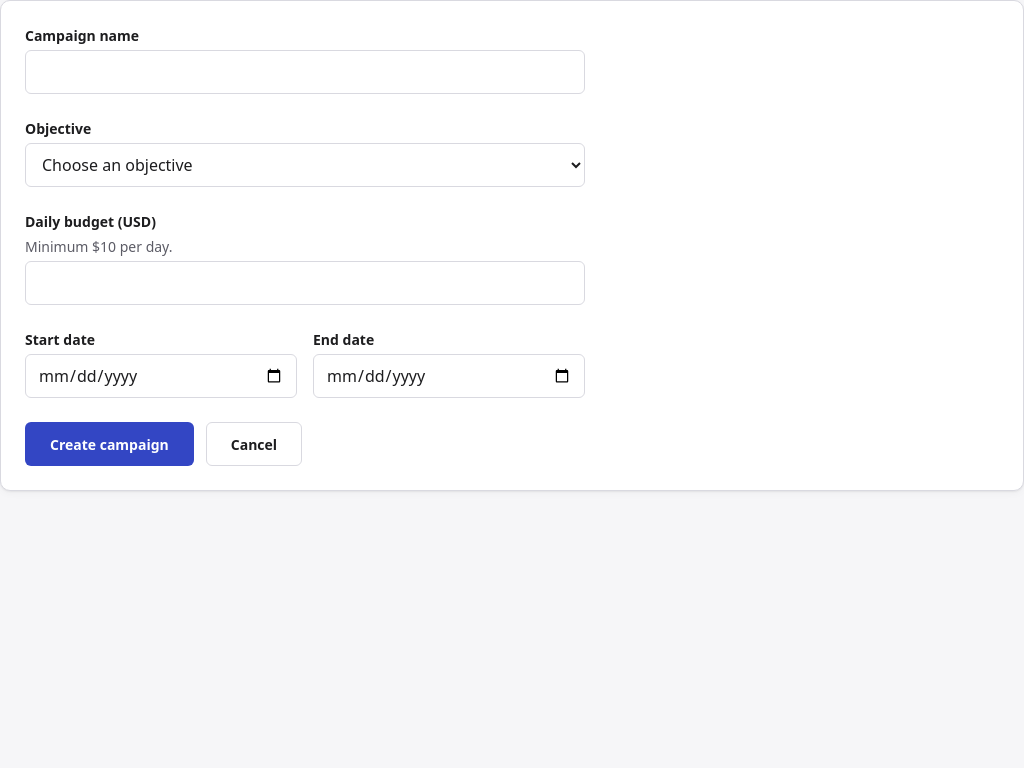
Test: CampaignForm › shows a friendly message when the server fails
Type "X" into the field labelled "Campaign name" at (305, 72), box [25, 50, 585, 94]
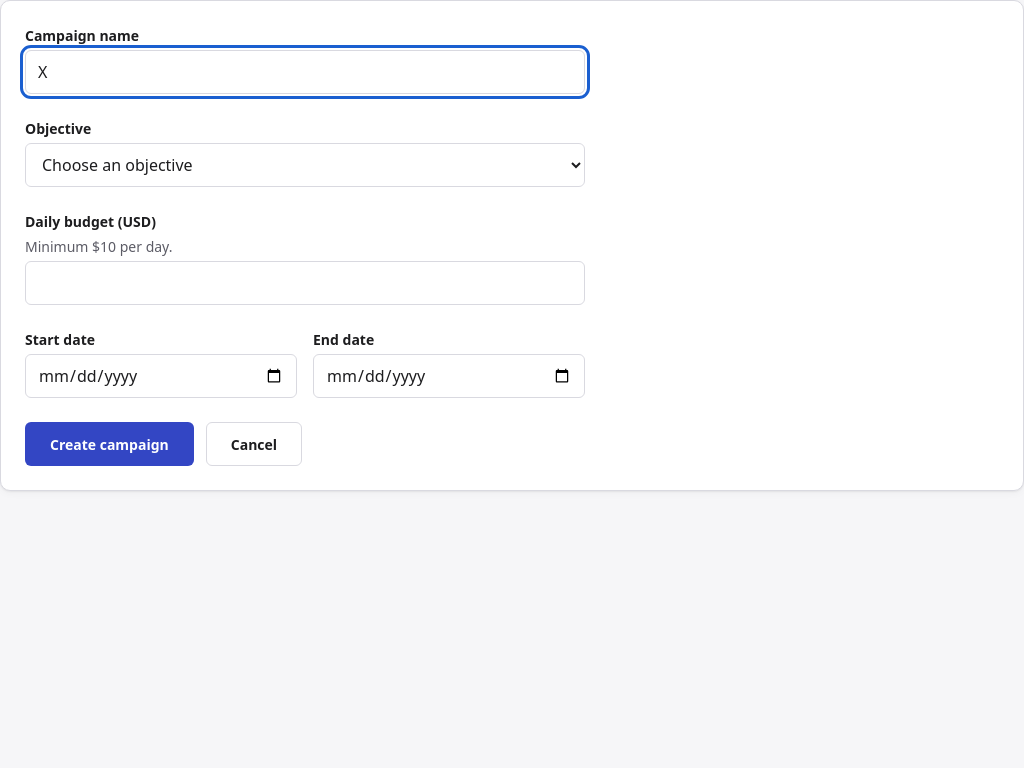
Select "Awareness: reach new shoppers" in the dropdown labelled "Objective" at (305, 165), box [25, 143, 585, 187]
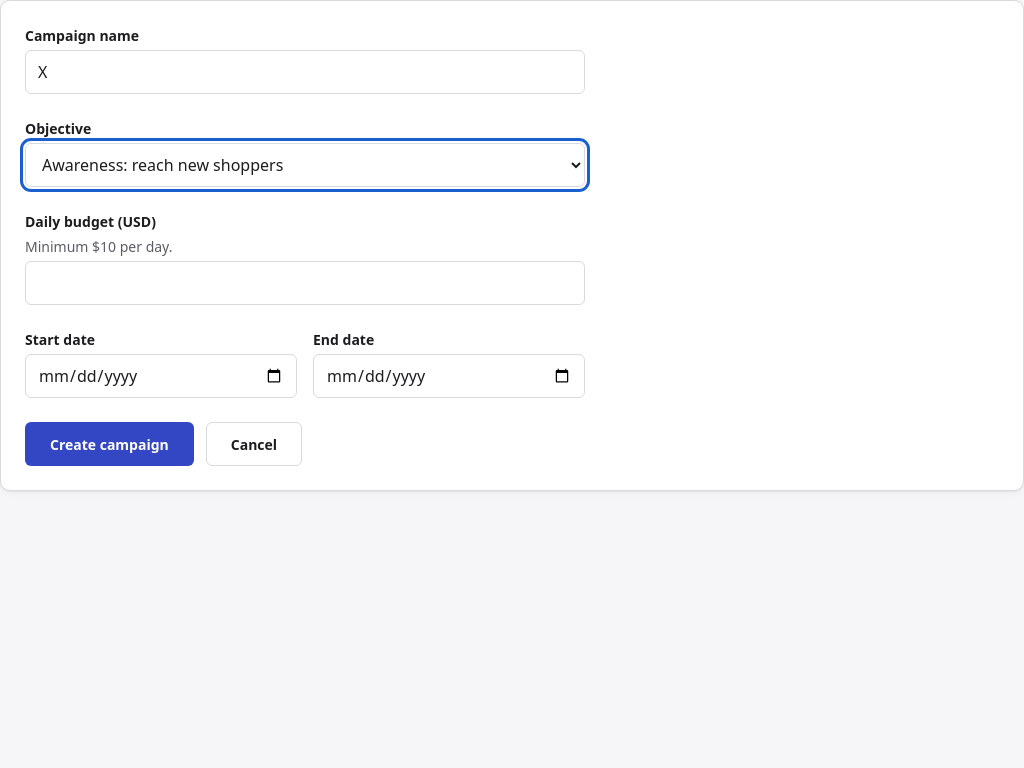
Type "50" into the number field labelled "Daily budget (USD)" at (305, 283), box [25, 261, 585, 305]
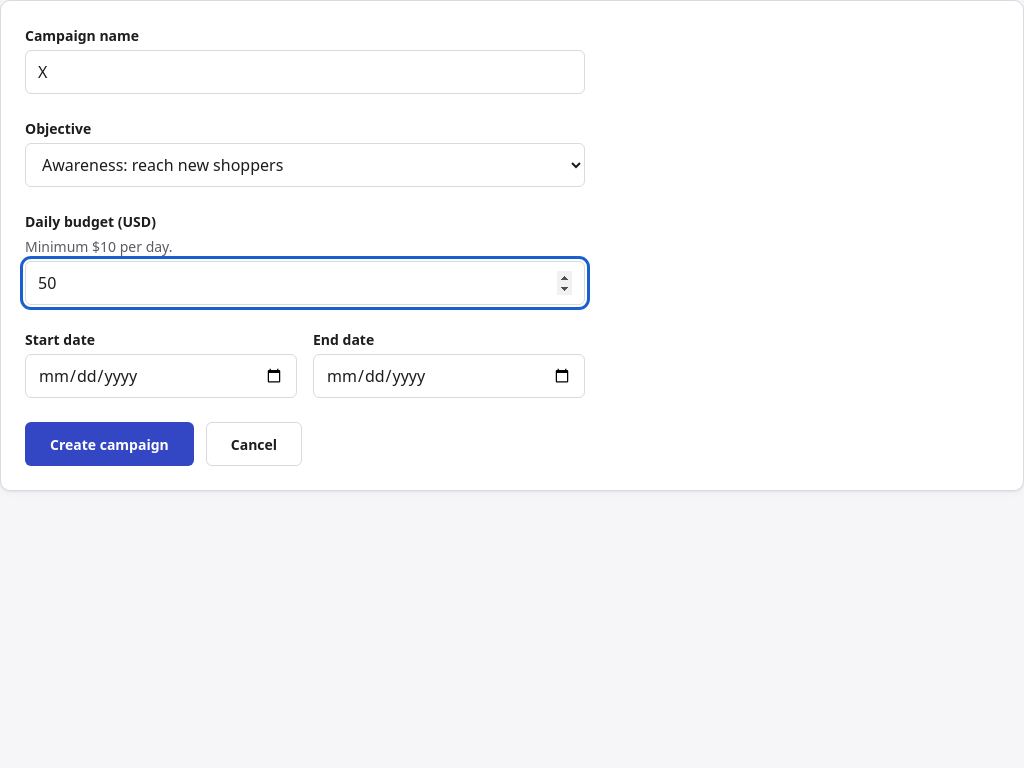
Type "2030-03-01" into the date field labelled "Start date" at (161, 376), box [25, 354, 297, 398]
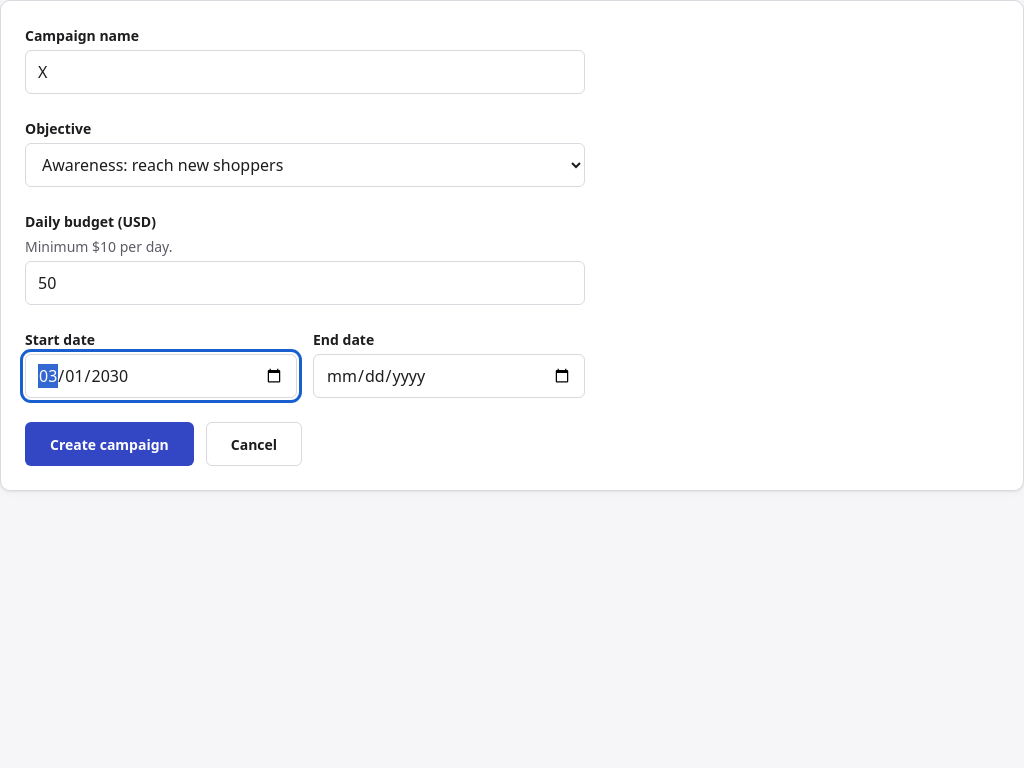
Type "2030-04-01" into the date field labelled "End date" at (449, 376), box [313, 354, 585, 398]
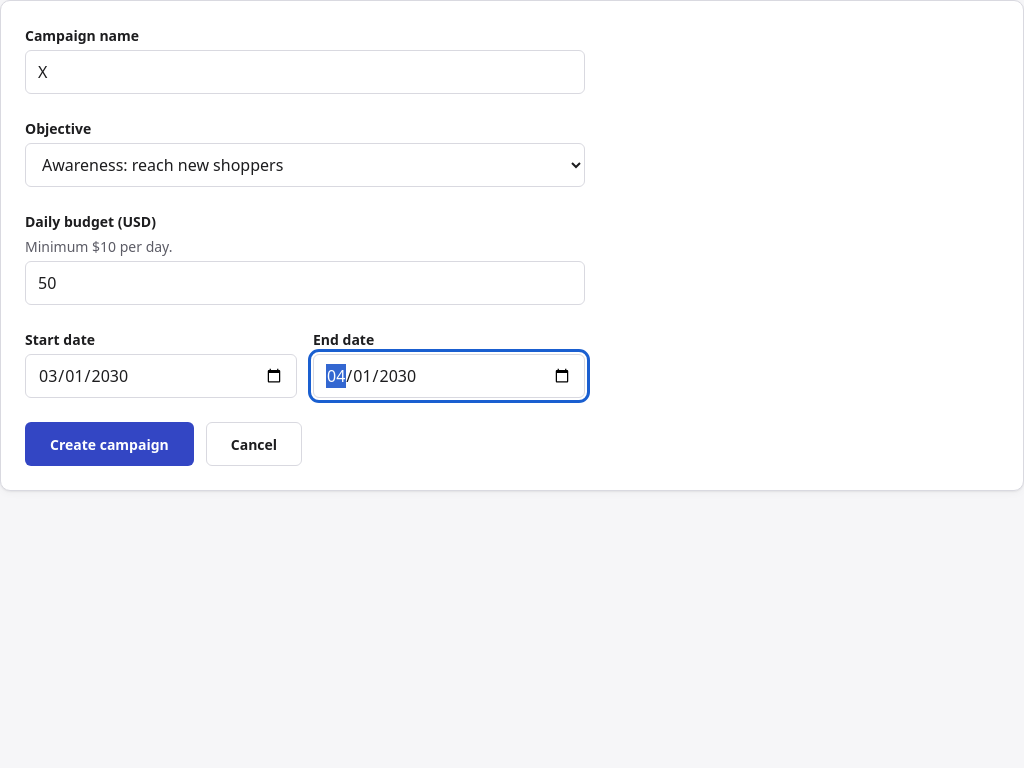
Click the button "Create campaign" at (109, 444), box [25, 422, 194, 466]
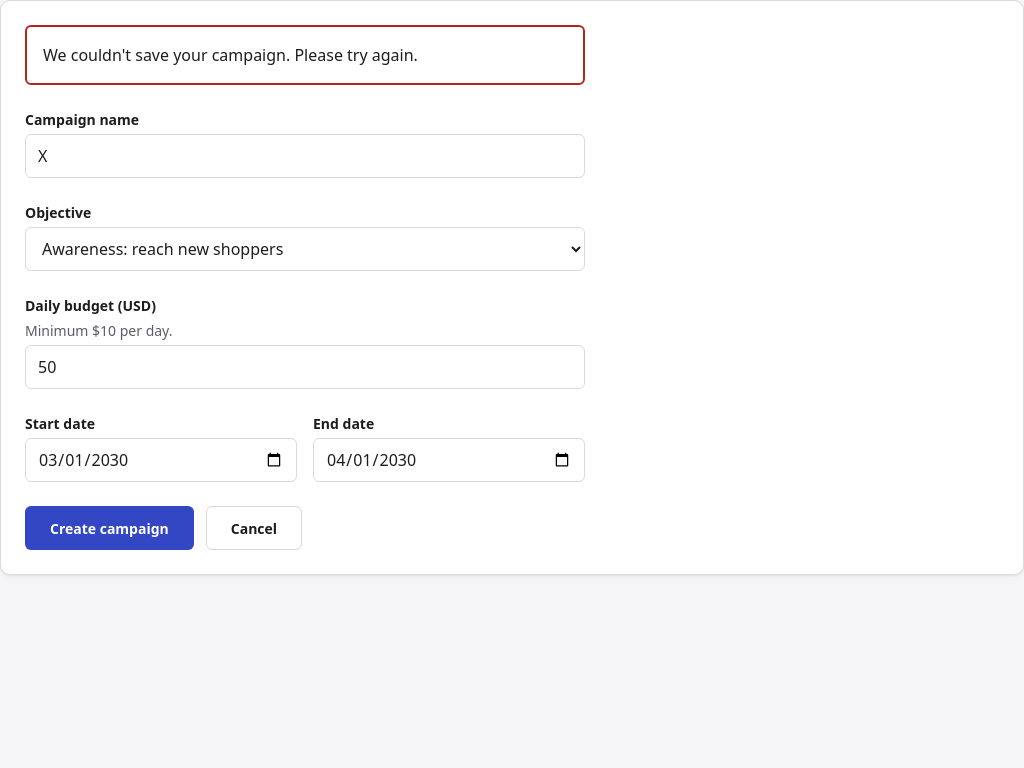
Now the text "We couldn't save your campaign. Please try again." is shown, box [25, 25, 585, 85]
